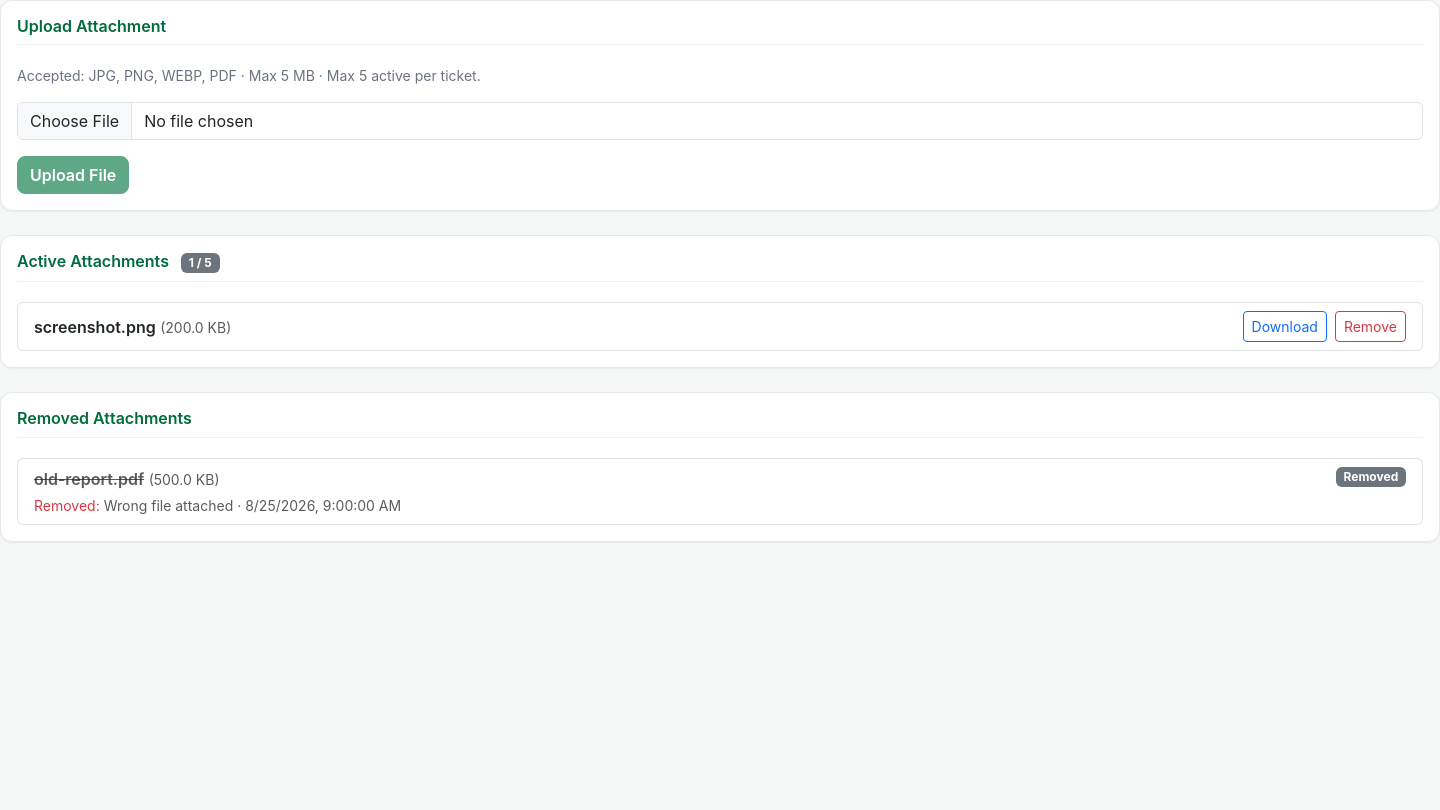
Test case: UI-ATT-04 — Remove button triggers confirm dialog › clicking Remove opens the confirm dialog
Check: the text "screenshot.png" is shown, box [34,317,156,337]
Click the button "Remove".
click(1370, 327)  # box [1335,311,1406,342]
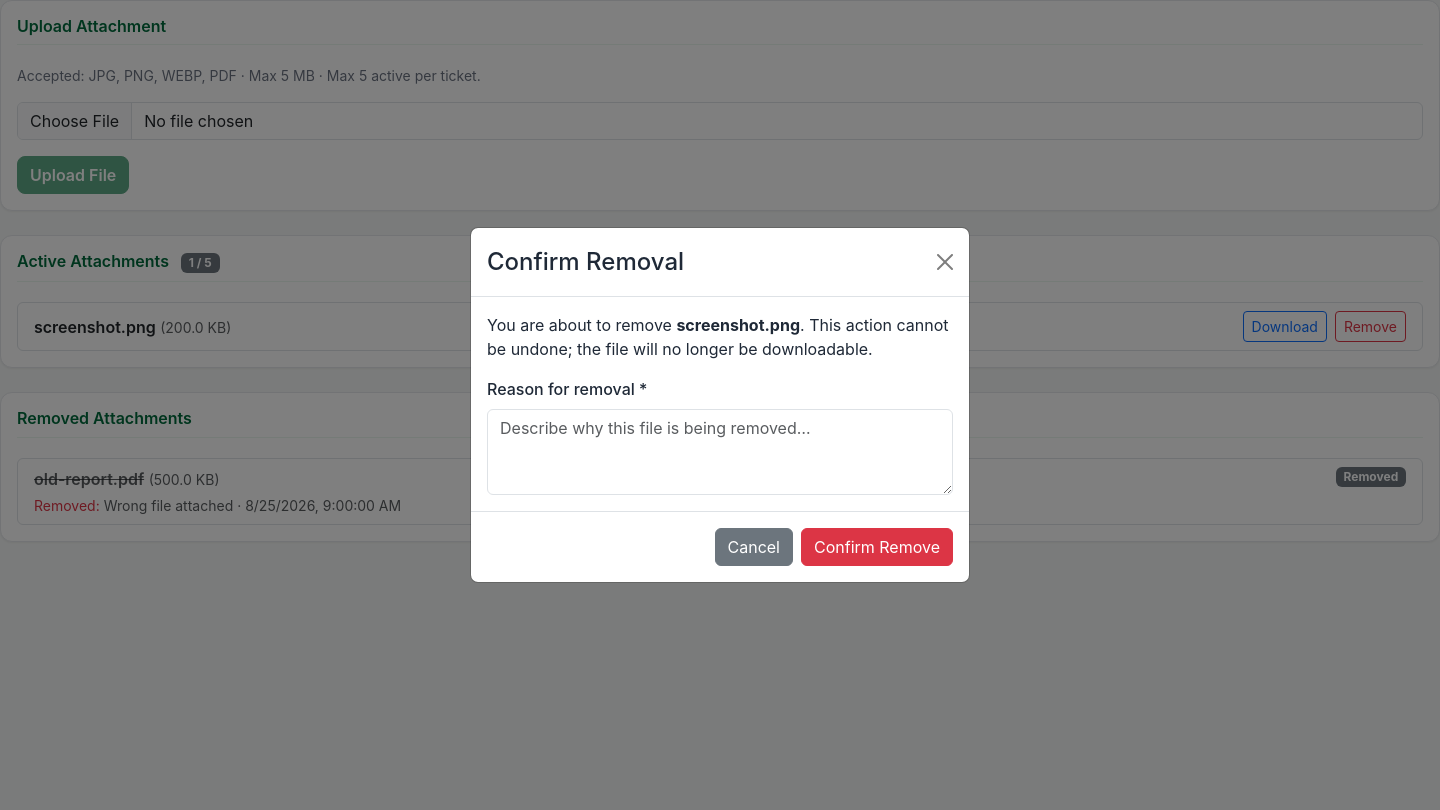
Check: the dialog is shown, box [470,227,970,583]
